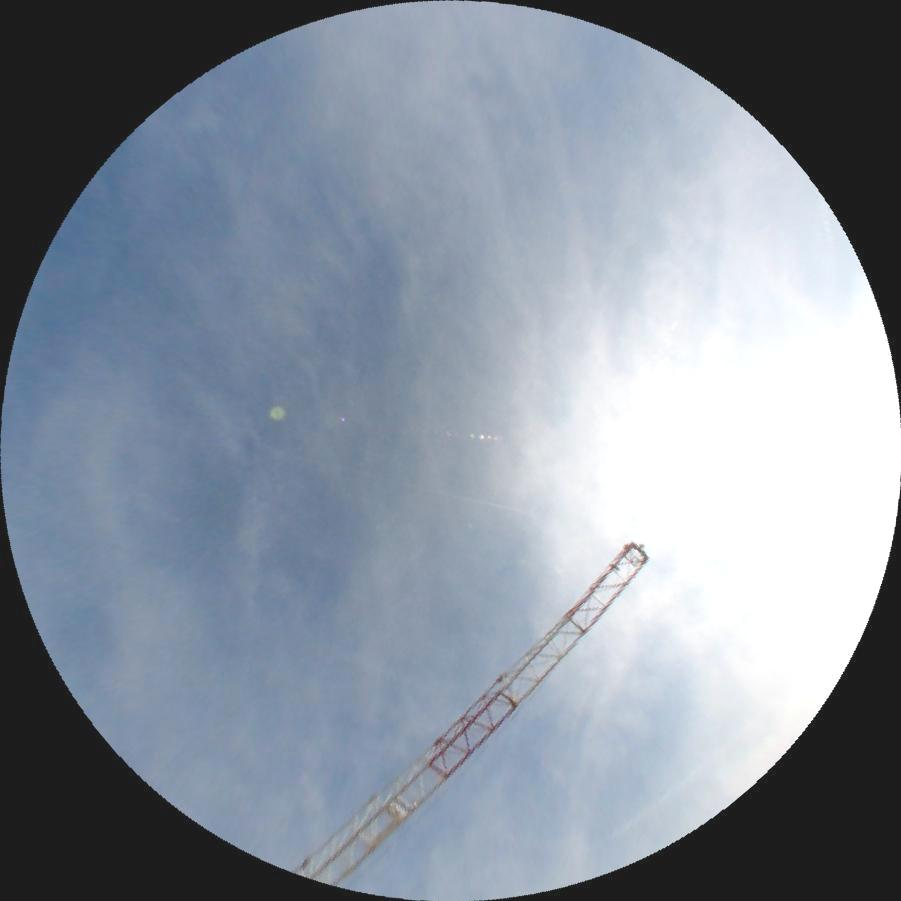contrail young: (271, 447, 522, 514)
